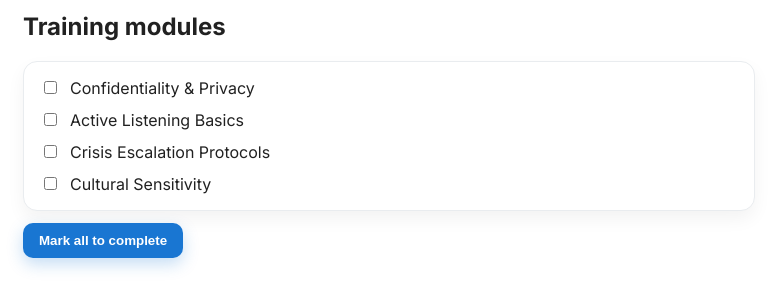
Onboarding flows › OnboardingTraining toggles and enables completion when all checked
Click the checkbox labelled "Confidentiality & Privacy".
click(50, 88)  # box [44,81,57,94]
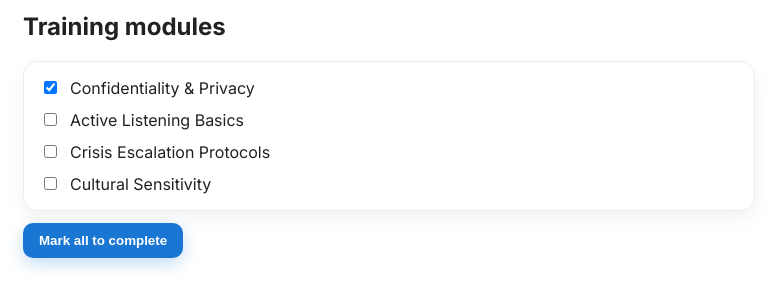
Click the checkbox labelled "Active Listening Basics".
click(50, 120)  # box [44,113,57,126]
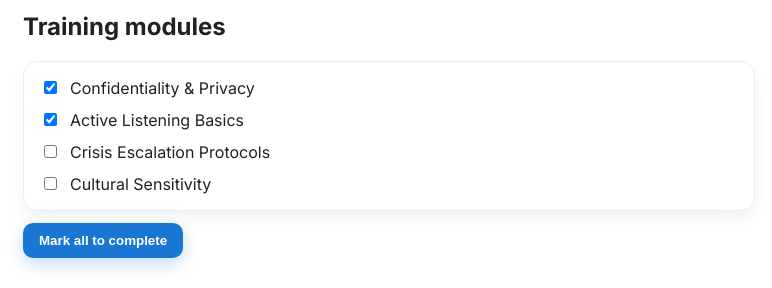
Click the checkbox labelled "Crisis Escalation Protocols".
click(50, 152)  # box [44,145,57,158]
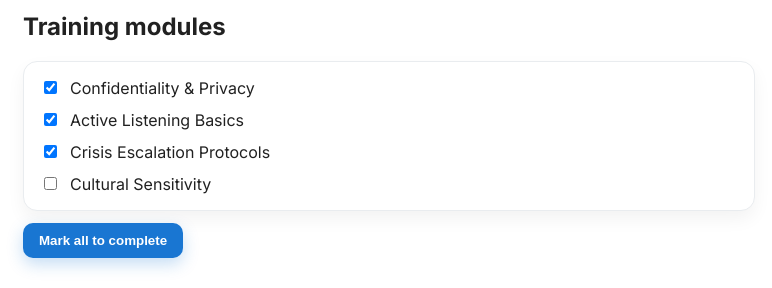
Click the checkbox labelled "Cultural Sensitivity".
click(50, 184)  # box [44,177,57,190]
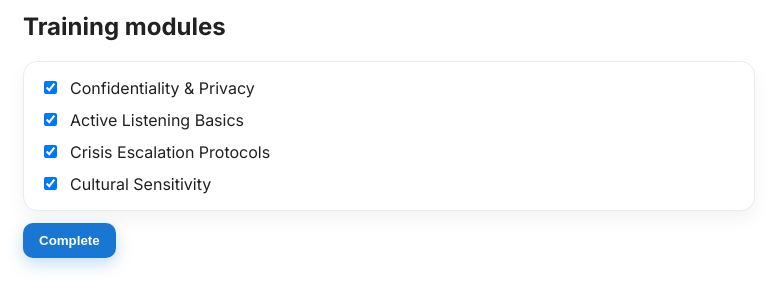
Check: the button is enabled, box [23,223,116,258]
